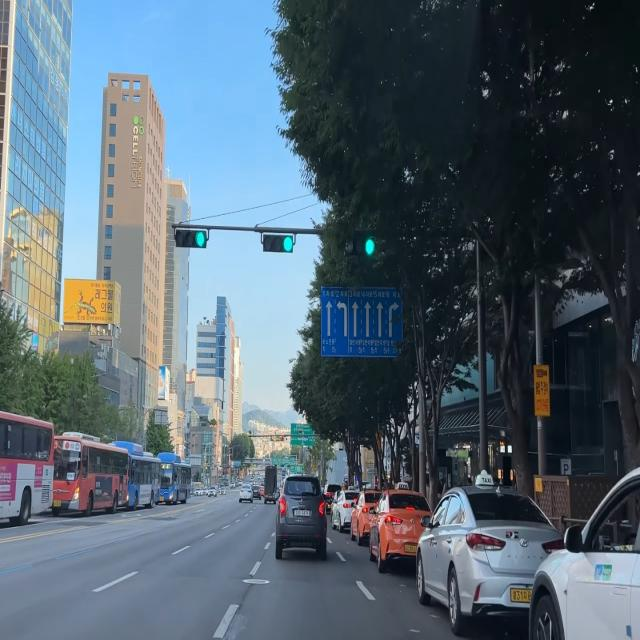Green Light: (195, 230, 205, 247), (283, 236, 293, 253), (365, 238, 374, 255)
